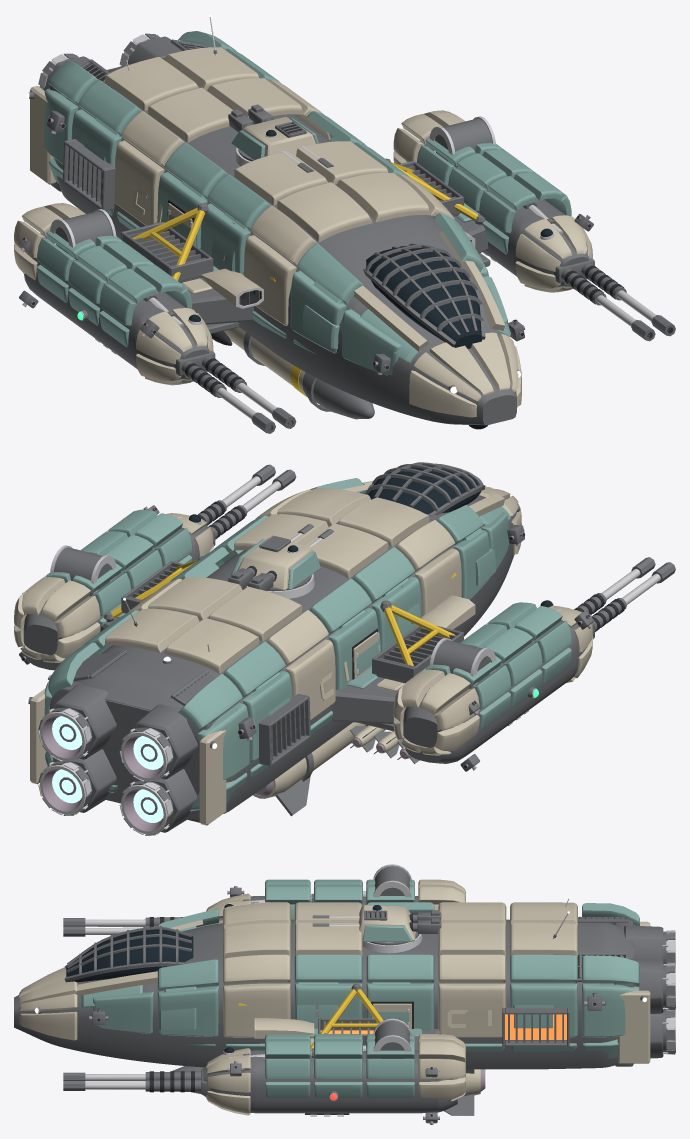
The model's file is interceptor_b.glb.
3 views of the same model, one above another, from view 1: azimuth 30°, elevation 25°; view 2: azimuth 150°, elevation 25°; view 3: azimuth 270°, elevation 25° (orthographic). The views are drawn at different scales.
Visible parts, largest first — view 1: interceptor_b; view 2: interceptor_b; view 3: interceptor_b.
Boxes of the visible parts, box(x1,y1,x2,y2) form: interceptor_b: box(14, 14, 675, 433); interceptor_b: box(14, 462, 675, 835); interceptor_b: box(14, 864, 675, 1124).
Size of the model in its own units: 6.79 by 3.29 by 10.14.
